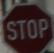Stop sign: (0, 0, 53, 52)
